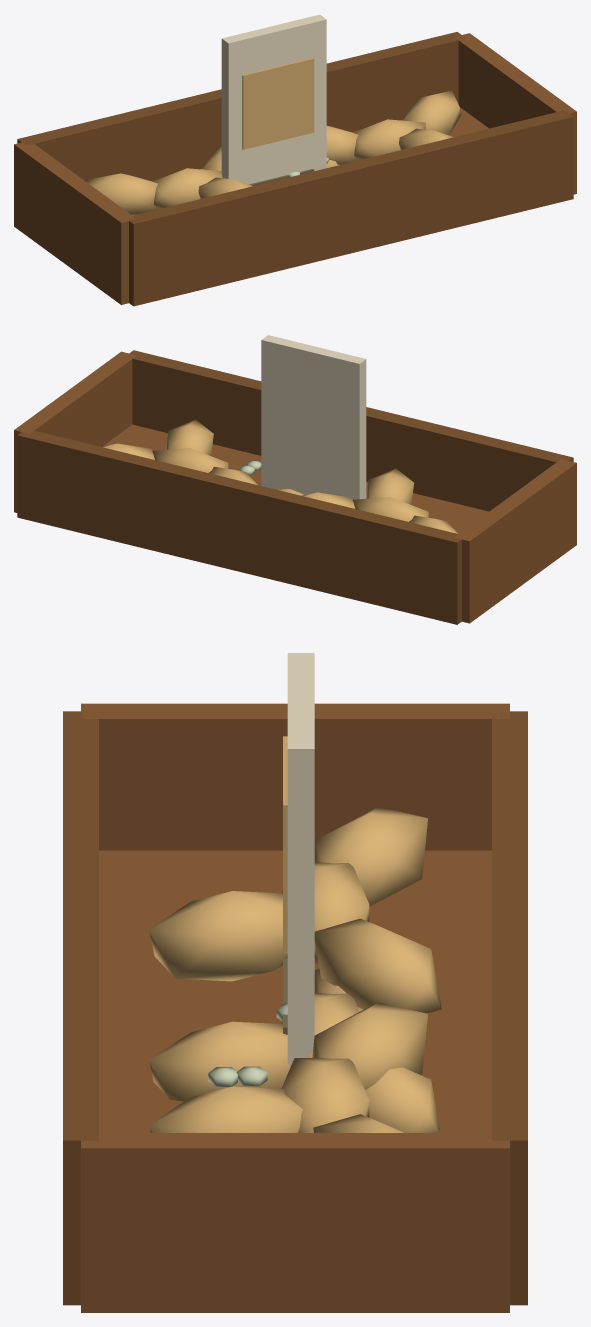
The model's file is Crop_Ginger.fbx.
The picture shows the model from 3 angles, top to bottom: view 1: azimuth 30°, elevation 25°; view 2: azimuth 150°, elevation 25°; view 3: azimuth 270°, elevation 25°; orthographic projection. The views are drawn at different scales.
Parts seen in each view (by area): view 1: Crop_Ginger__Stack, Crop_Ginger__Seed; view 2: Crop_Ginger__Stack, Crop_Ginger__Seed; view 3: Crop_Ginger__Stack, Crop_Ginger, Crop_Ginger__Seed, Crop_Ginger__Rotten.
Boxes of the visible parts, x1,y1,x2,y2 form: Crop_Ginger__Stack: (14, 32, 576, 306); Crop_Ginger__Seed: (221, 14, 326, 185); Crop_Ginger__Stack: (14, 350, 576, 624); Crop_Ginger__Seed: (261, 335, 366, 499); Crop_Ginger__Stack: (63, 703, 527, 1312); Crop_Ginger: (149, 968, 439, 1132); Crop_Ginger__Seed: (283, 653, 314, 1067); Crop_Ginger__Rotten: (208, 1003, 287, 1086).
Size of the model in its own units: 0.2319 by 0.09 by 0.1025.
